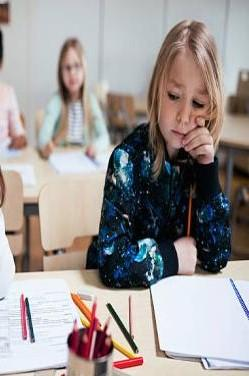cheating: (102, 16, 249, 376)
